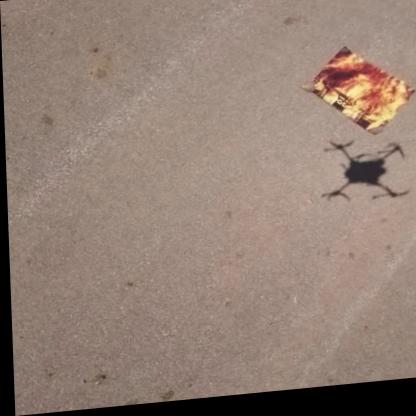fire-poster: (298, 46, 416, 148)
